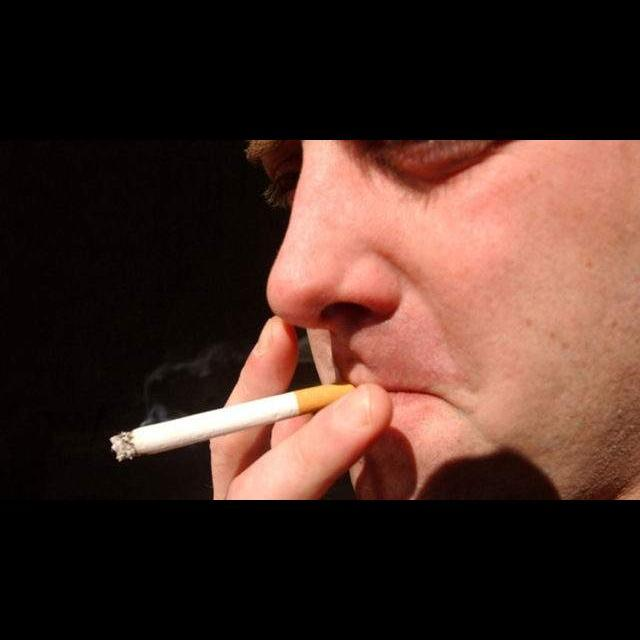rokok: (100, 361, 372, 481)
